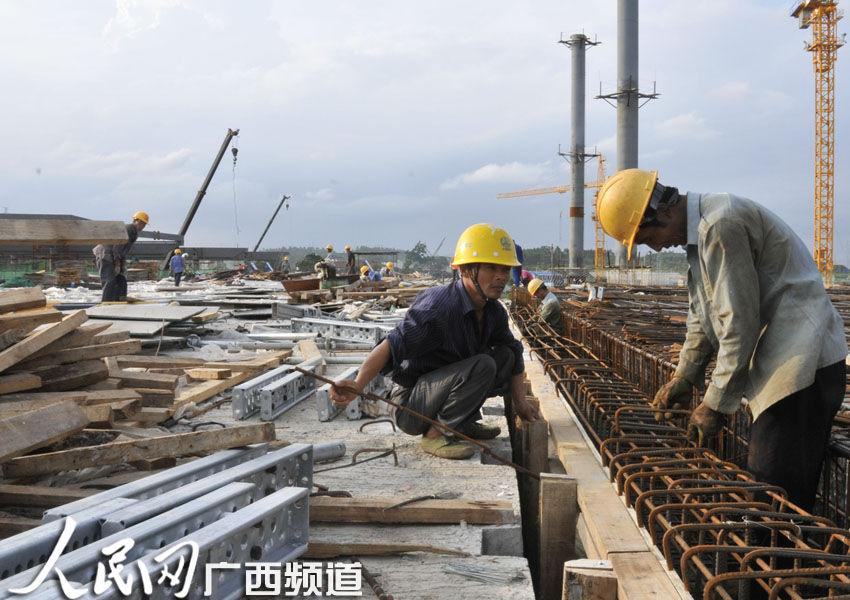helmet: (596, 165, 661, 264), (451, 222, 523, 273), (528, 278, 546, 298), (133, 211, 151, 226), (359, 265, 371, 276), (386, 262, 396, 272), (174, 247, 183, 256), (326, 245, 335, 252), (345, 246, 352, 252), (285, 256, 290, 263)
